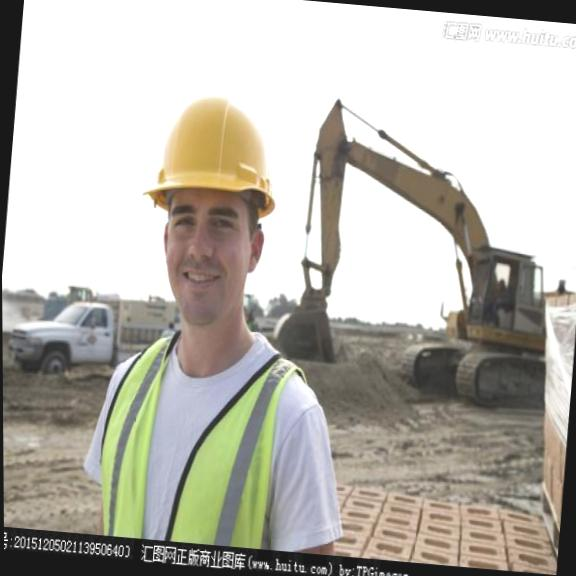safety_vest: (79, 311, 318, 552)
